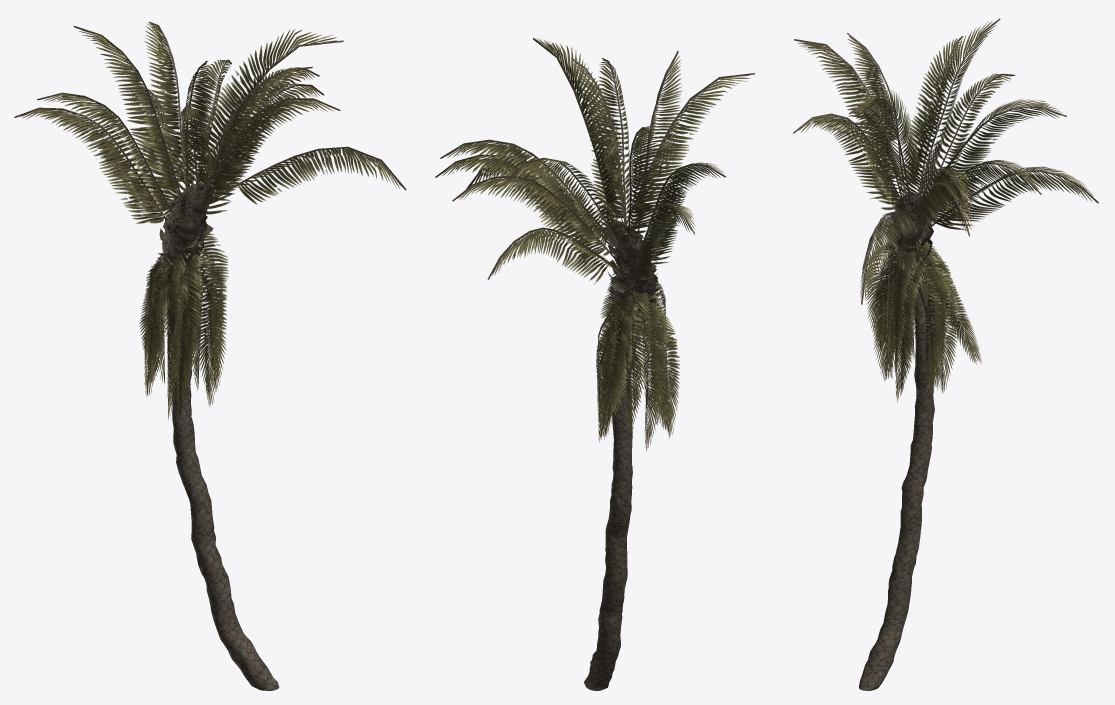
Rendered from weathered_b.glb.
3 views of the same model, side by side, from view 1: azimuth 30°, elevation 25°; view 2: azimuth 150°, elevation 25°; view 3: azimuth 270°, elevation 25° (orthographic). The views are drawn at different scales.
Visible parts, largest first — view 1: Palm_tree_002_v2_w; view 2: Palm_tree_002_v2_w; view 3: Palm_tree_002_v2_w.
Boxes of the visible parts, <box> form: Palm_tree_002_v2_w: <box>14,21,406,690</box>; Palm_tree_002_v2_w: <box>435,38,754,690</box>; Palm_tree_002_v2_w: <box>793,18,1098,690</box>.
Bounding box in the file's own units: 7.64 × 15 × 6.83.
2 materials, 2 textured.
